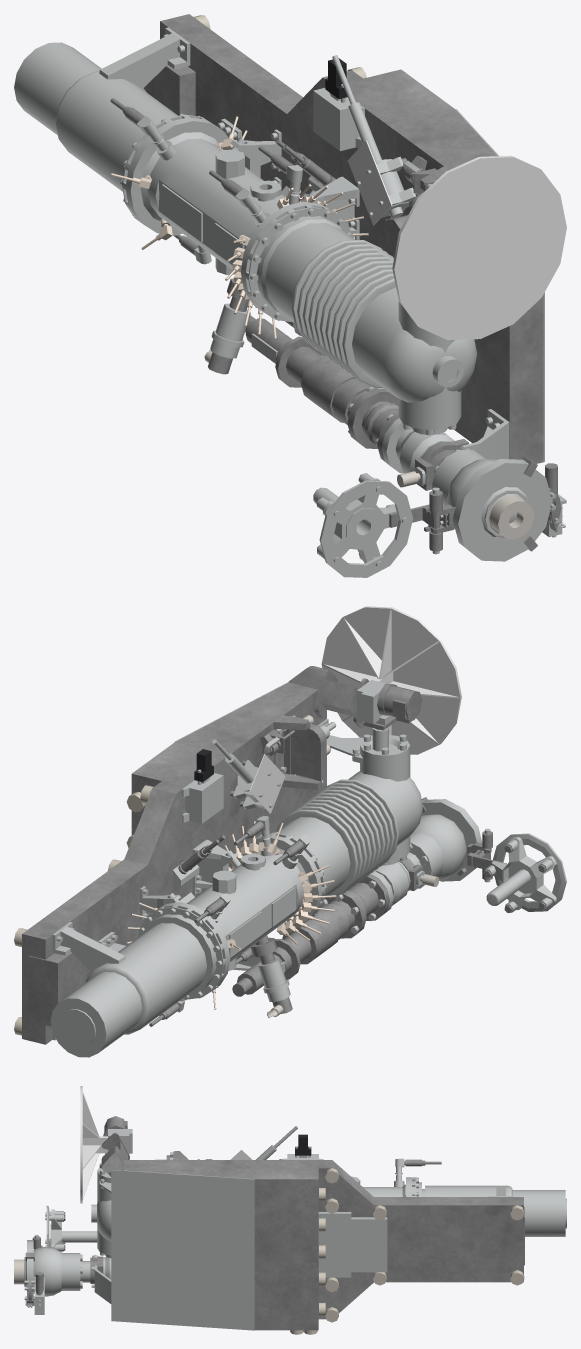
The model's file is maspex.glb.
3 renders of one model, top to bottom at view 1: azimuth 30°, elevation 25°; view 2: azimuth 150°, elevation 25°; view 3: azimuth 270°, elevation 25°, orthographic. The views are drawn at different scales.
Parts seen in each view (by area): view 1: maspex; view 2: maspex; view 3: maspex.
Boxes of the visible parts, left/top/right/bottom form: maspex: left=14, top=14, right=566, bottom=577; maspex: left=14, top=606, right=566, bottom=1057; maspex: left=14, top=1086, right=566, bottom=1334.
Bounding box in the file's own units: 0.4044 × 0.4525 × 1.05.
1 material, 1 textured.
